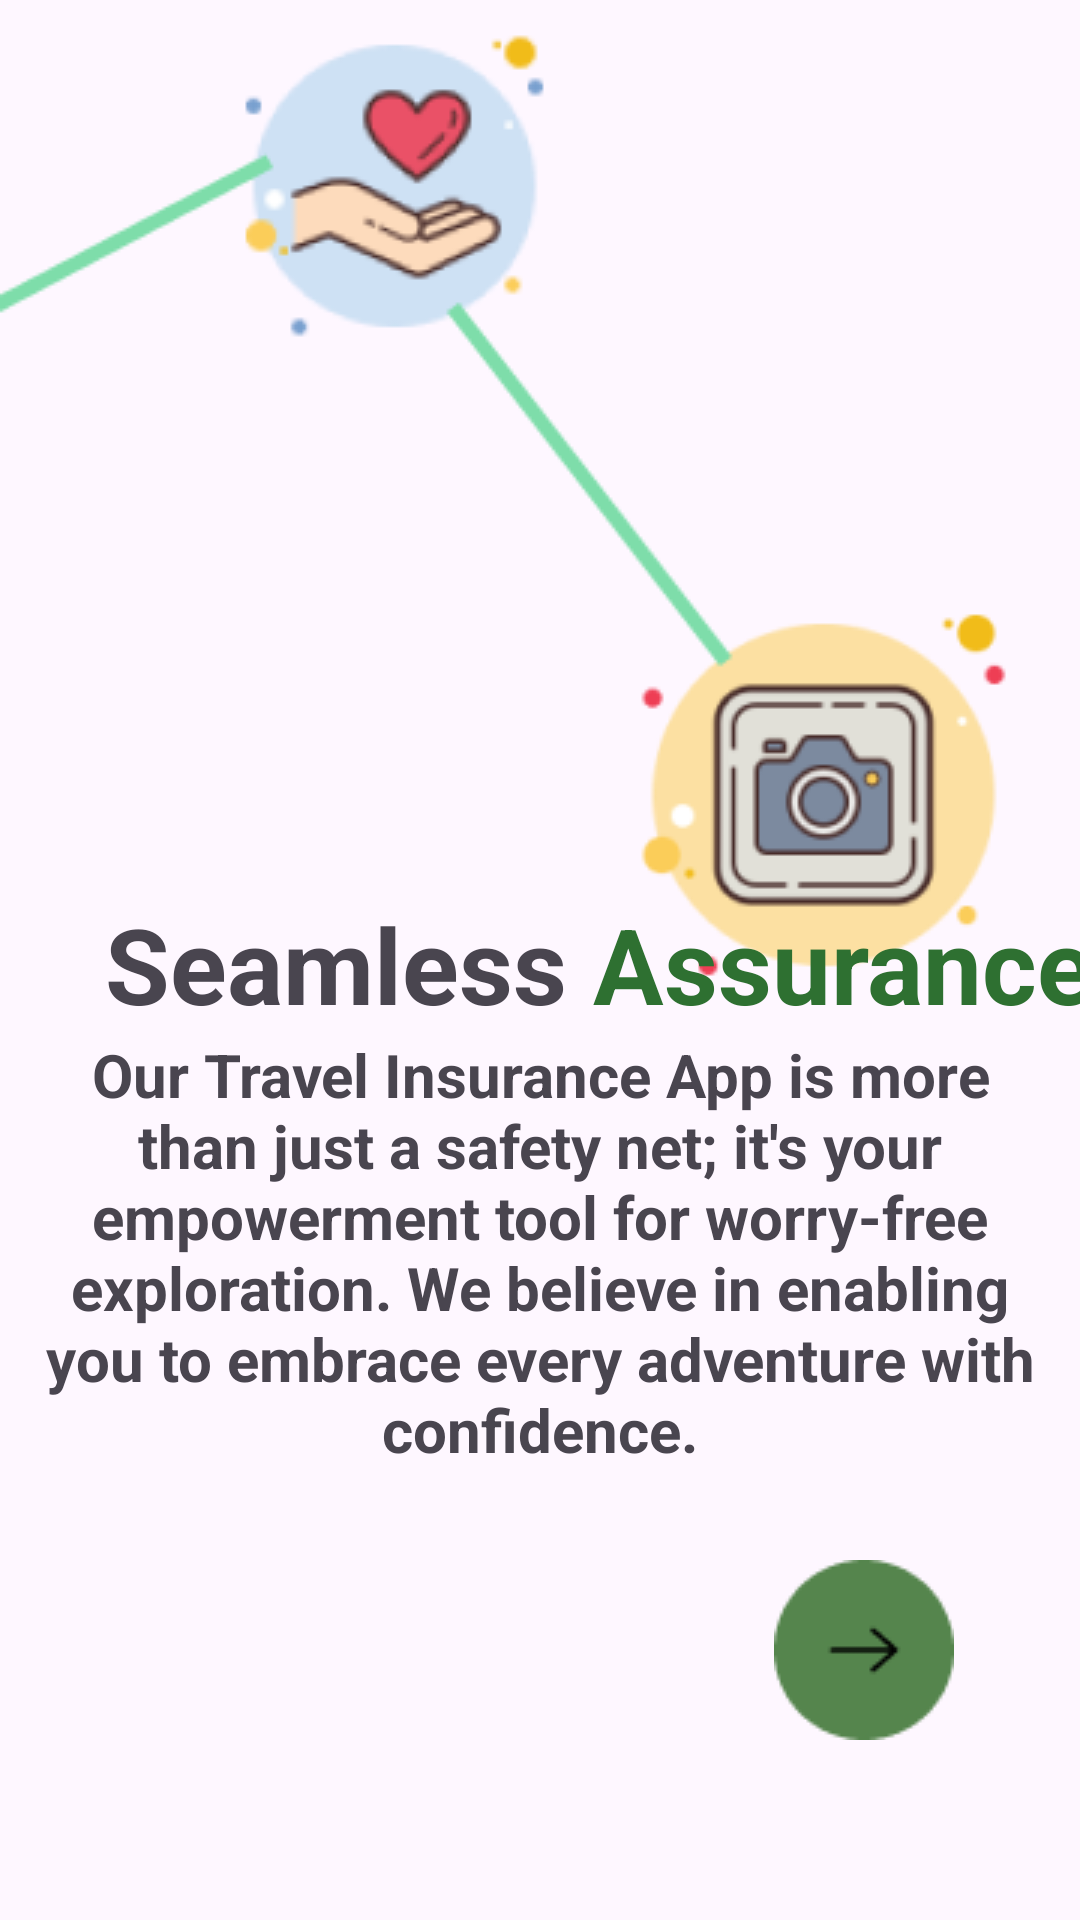

Icons on this 1080x1920 Android screen, each with the point to tap as [x,y]:
arrow: [864,1650]
